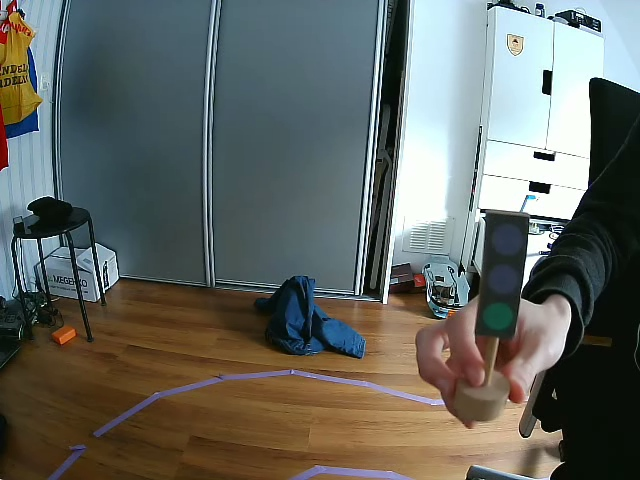groenlicht: (475, 214, 531, 336)
